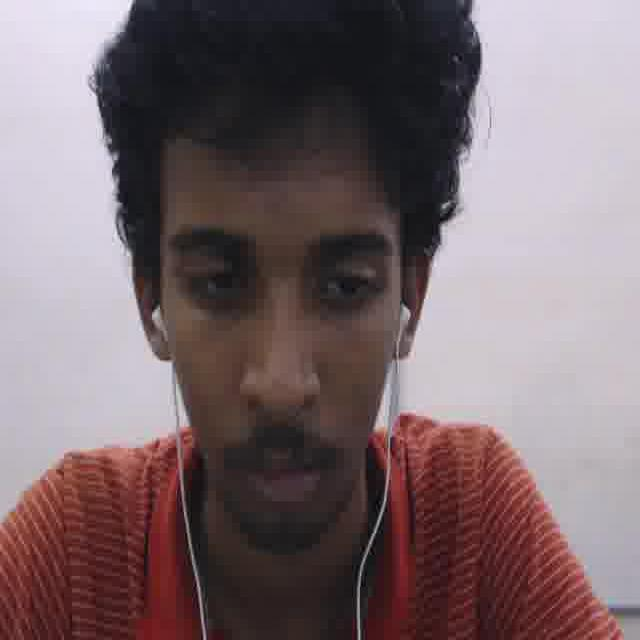Boredom: (145, 101, 415, 568)
